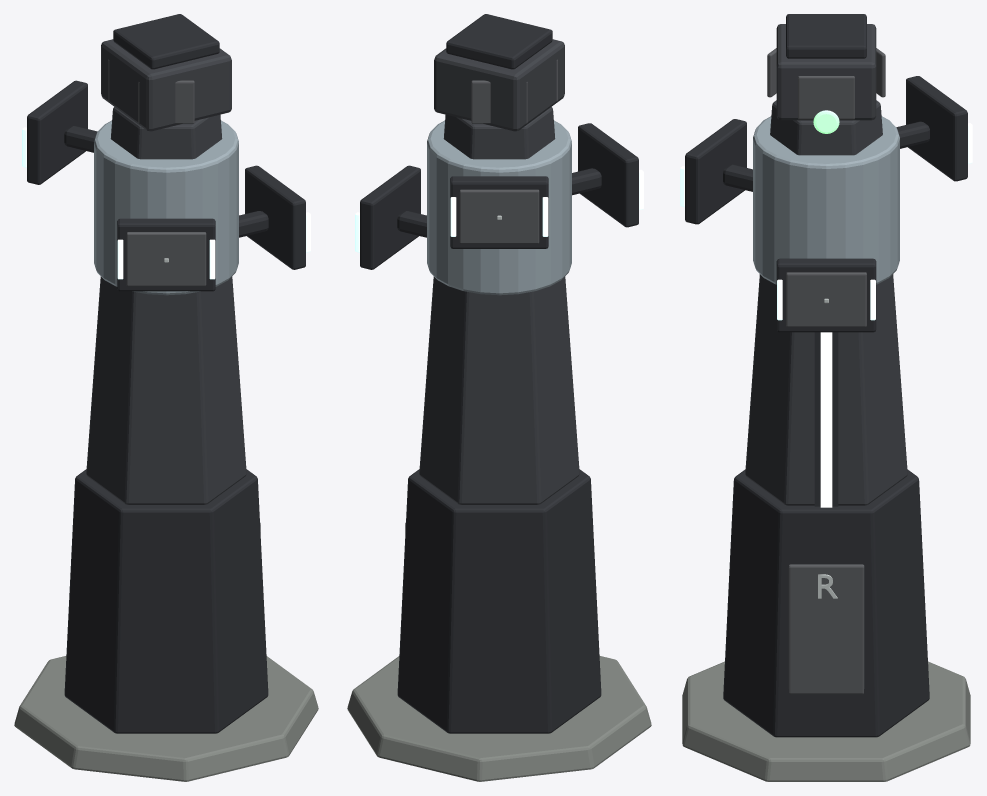
Rendered from outpost-ch4.glb.
3 renders of one model, left to right at view 1: azimuth 30°, elevation 25°; view 2: azimuth 150°, elevation 25°; view 3: azimuth 270°, elevation 25°, orthographic.
Parts seen in each view (by area): view 1: Outpost_OutpostGraphite, Outpost_TeamPrimaryShell.001, OutpostPedestal, RotorCollar, ArmorPanel.001, ArmorFrame, ArmorFrame.002, ArmorFrame.001, ArmorRotor_OutpostGraphite, SmallArmor.001, OutpostArmor_1_TeamGlow; view 2: Outpost_OutpostGraphite, Outpost_TeamPrimaryShell.001, OutpostPedestal, RotorCollar, ArmorPanel.002, ArmorFrame, ArmorFrame.001, ArmorFrame.002, ArmorRotor_OutpostGraphite, SmallArmor.002, OutpostArmor_2_TeamGlow; view 3: Outpost_OutpostGraphite, Outpost_TeamPrimaryShell.001, RotorCollar, OutpostPedestal, SkirtPanel, ArmorPanel, ArmorFrame.001, ArmorFrame.002, ArmorFrame, SmallArmor, TowerLight, ArmorRotor_OutpostGraphite.
Part boxes in pixels (x1,y1,x2,y2): Outpost_OutpostGraphite: (64, 14, 268, 733); Outpost_TeamPrimaryShell.001: (86, 39, 246, 504); OutpostPedestal: (14, 656, 318, 781); RotorCollar: (94, 120, 238, 295); ArmorPanel.001: (126, 232, 206, 286); ArmorFrame: (245, 165, 305, 269); ArmorFrame.002: (27, 80, 87, 184); ArmorFrame.001: (117, 218, 215, 291); ArmorRotor_OutpostGraphite: (64, 126, 268, 237); SmallArmor.001: (138, 80, 194, 123); OutpostArmor_1_TeamGlow: (117, 239, 215, 279); Outpost_OutpostGraphite: (397, 14, 601, 733); Outpost_TeamPrimaryShell.001: (419, 39, 579, 504); OutpostPedestal: (347, 656, 651, 781); RotorCollar: (427, 120, 571, 295); ArmorPanel.002: (459, 189, 539, 243); ArmorFrame: (360, 165, 420, 269); ArmorFrame.001: (578, 123, 638, 227); ArmorFrame.002: (450, 176, 548, 248); ArmorRotor_OutpostGraphite: (397, 168, 601, 237); SmallArmor.002: (471, 80, 527, 123); OutpostArmor_2_TeamGlow: (450, 197, 548, 236); Outpost_OutpostGraphite: (723, 14, 929, 737); Outpost_TeamPrimaryShell.001: (745, 24, 907, 505); RotorCollar: (753, 116, 899, 284); OutpostPedestal: (682, 661, 970, 781); SkirtPanel: (788, 564, 864, 694); ArmorPanel: (786, 272, 866, 326); ArmorFrame.001: (685, 119, 746, 224); ArmorFrame.002: (906, 76, 967, 181); ArmorFrame: (776, 258, 876, 332); SmallArmor: (798, 76, 854, 119); TowerLight: (820, 332, 832, 507); ArmorRotor_OutpostGraphite: (723, 121, 929, 191).
Size of the model in its own units: 0.6069 by 1.61 by 0.616.
